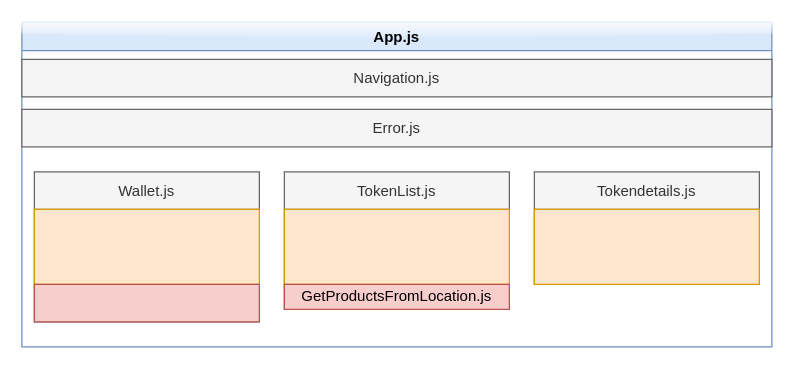
Some shapes in this 794 by 369 pixel diagram are drawn without their labels. The box of each missing label's shape, as (x1, y1, x2, y2) in pixels:
AccountInput.js: (33, 283, 259, 322)
Coğrafi konuma göre yakında bulunan ürünlerin listesi: (283, 208, 509, 284)
NFT damga hakkında bilgiler ve fotoğraf: (533, 208, 759, 284)
Var olan cüzdan hesaplarının listesi: (33, 208, 259, 284)
